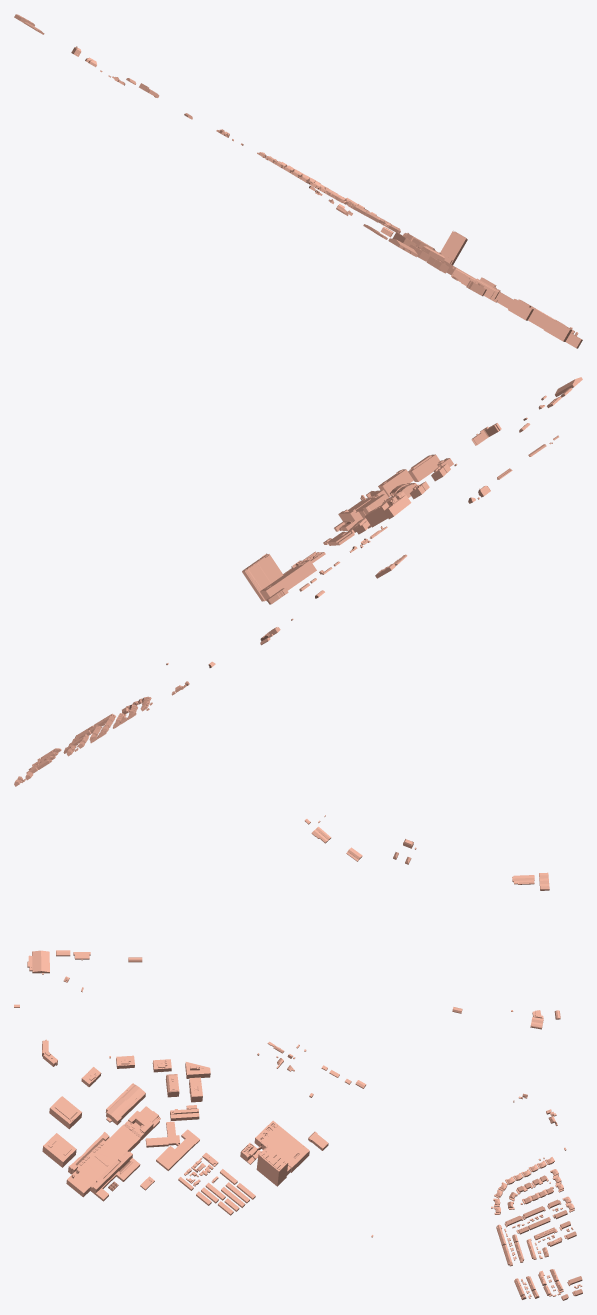
The picture shows the model from 3 angles, top to bottom: view 1: azimuth 30°, elevation 25°; view 2: azimuth 150°, elevation 25°; view 3: azimuth 270°, elevation 25°; orthographic projection. The views are drawn at different scales.
Size of the model in its own units: 3e+07 by 2.41e+07 by 4.03e+07.
